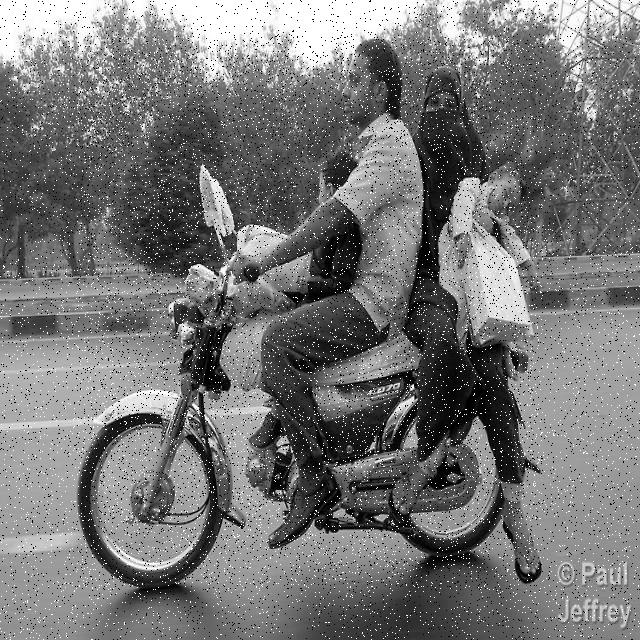Motorbike: (77, 36, 543, 589)
